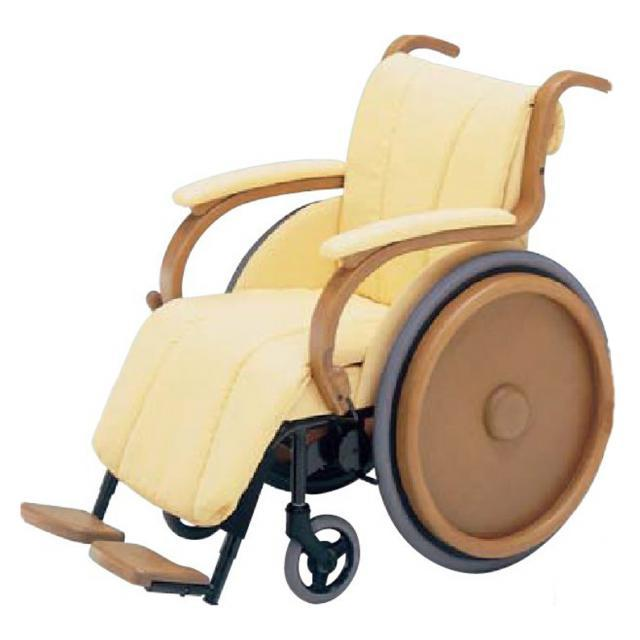wheelchair: (8, 31, 626, 640)
